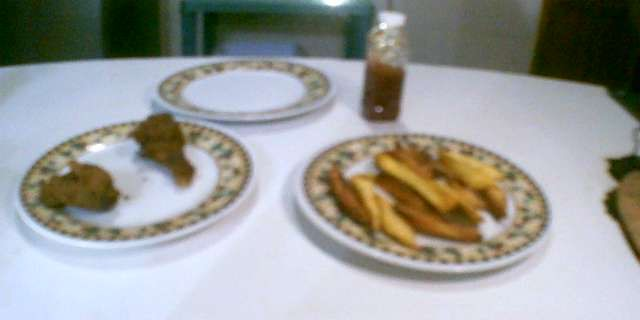chicken: (129, 108, 199, 191), (35, 157, 124, 217)
empty_plate: (148, 54, 335, 123)
ketchup_bottle: (354, 5, 413, 123)
potatoe_fries: (331, 145, 511, 246)
